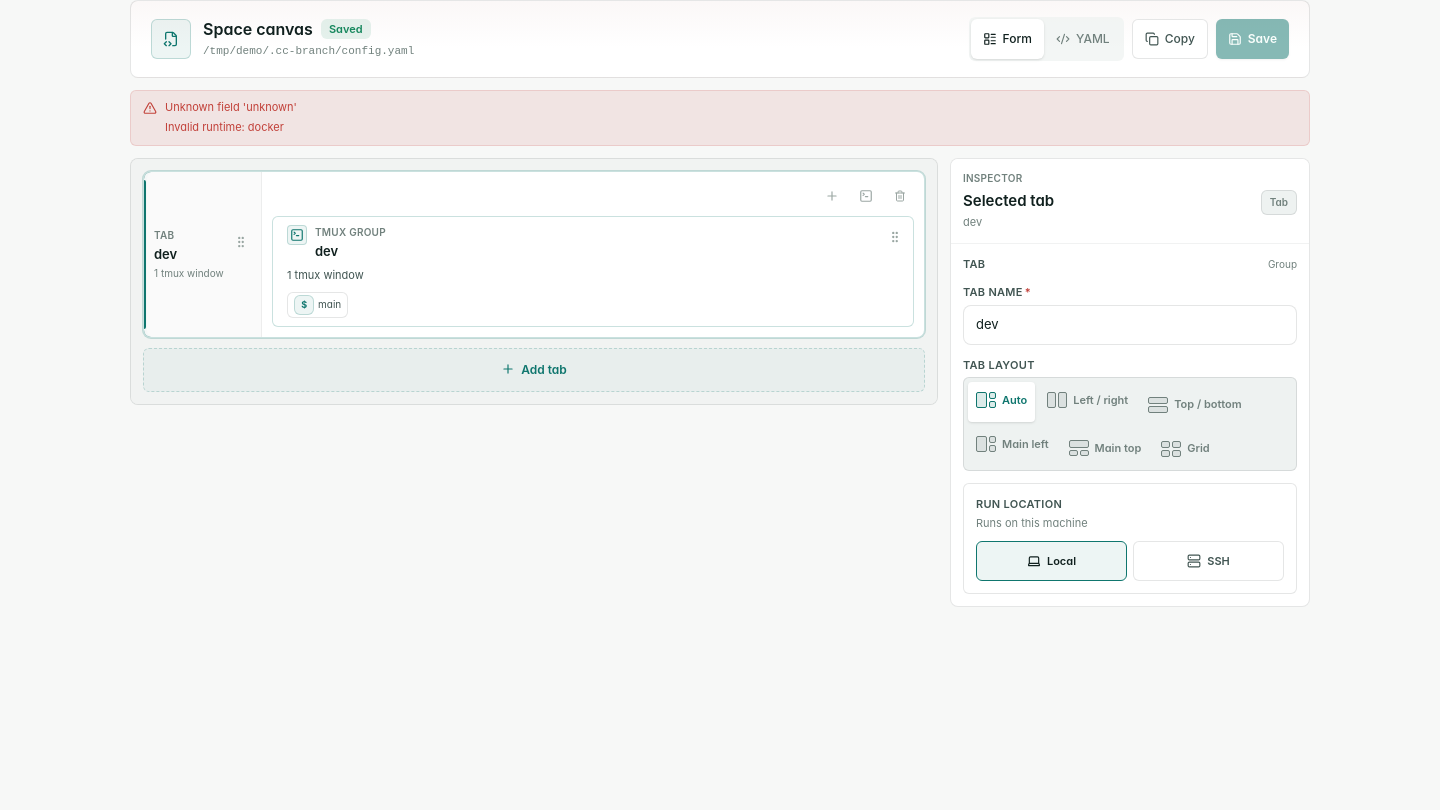
ConfigEditor diagnostics › asks for confirmation before deleting a tab
The width and height of the screenshot is (1440, 810).
Step 1. Click the button named "Remove tab dev" → {"x": 900, "y": 196}, box [886,182,914,210]
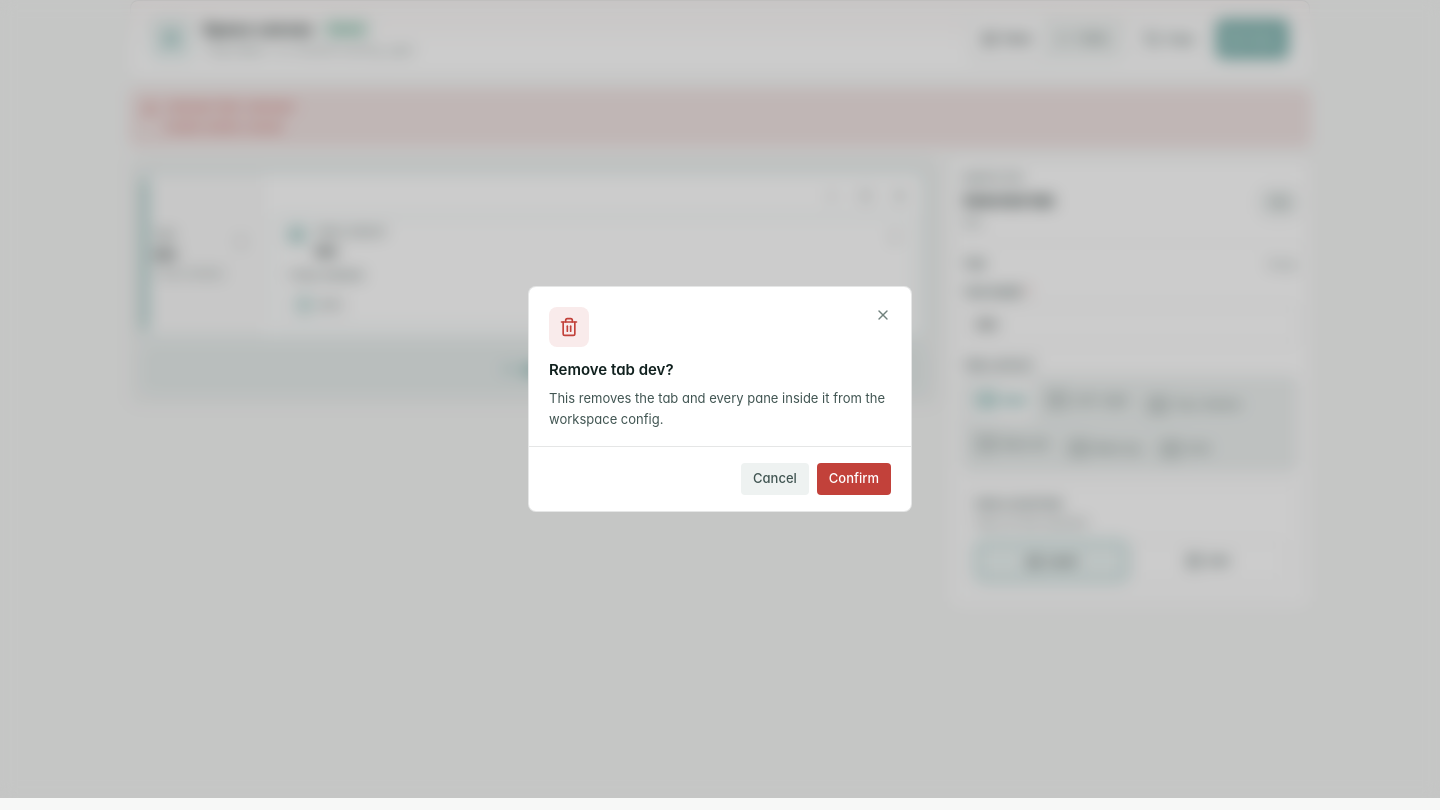
Expected: the button with aria-label "Edit tab dev" is shown, [144,172,262,337]
Now the heading "Remove tab dev?" is shown, box [549,360,674,379]
Step 2. Click the button "Confirm" → {"x": 854, "y": 479}, box [817,463,891,495]
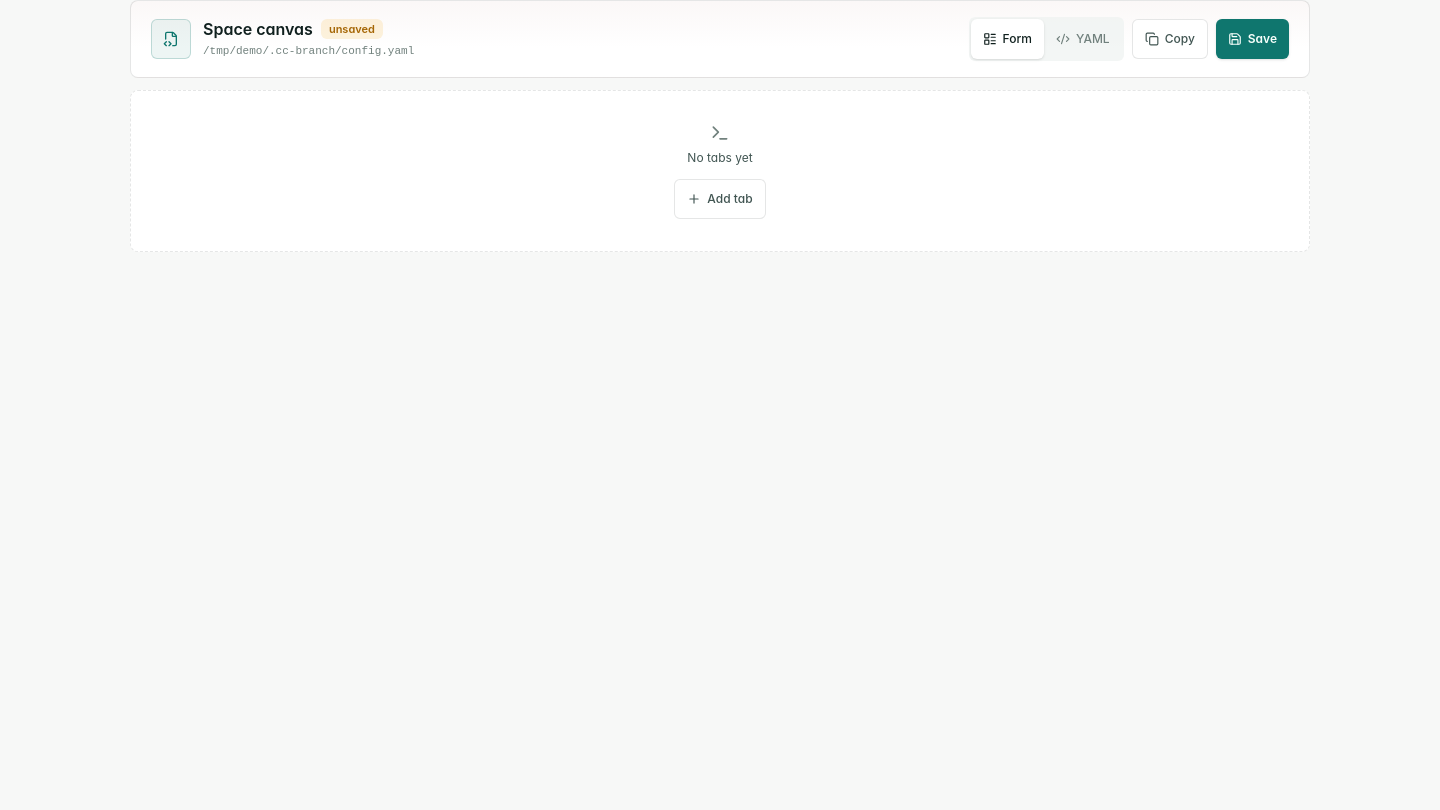
Now the text "No tabs yet" is shown, box [687,150,753,165]
